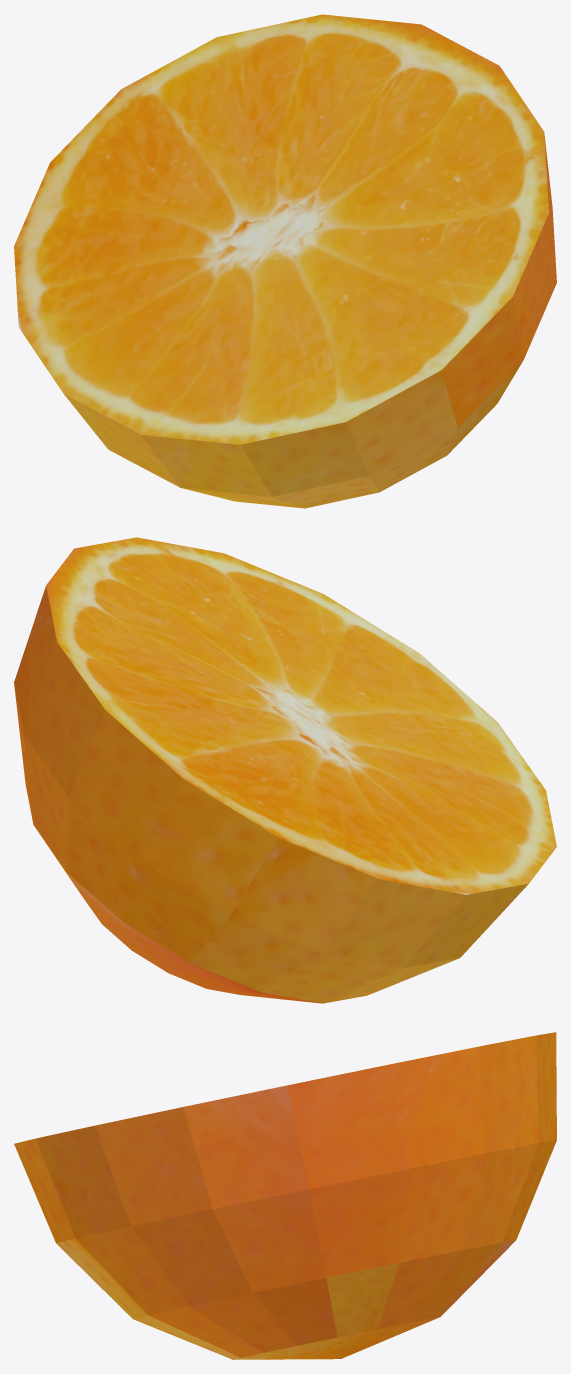
Rendered from orange.gltf.
3 renders of one model, top to bottom at view 1: azimuth 30°, elevation 25°; view 2: azimuth 150°, elevation 25°; view 3: azimuth 270°, elevation 25°, orthographic. The views are drawn at different scales.
Visible parts, largest first — view 1: Orange; view 2: Orange; view 3: Orange.
Boxes of the visible parts, bbox=[...] form: Orange: bbox=[14, 14, 556, 508]; Orange: bbox=[14, 537, 556, 1003]; Orange: bbox=[14, 1032, 556, 1359].
Size of the model in its own units: 1.55 by 1.2 by 1.6.
1 material, 1 textured.
